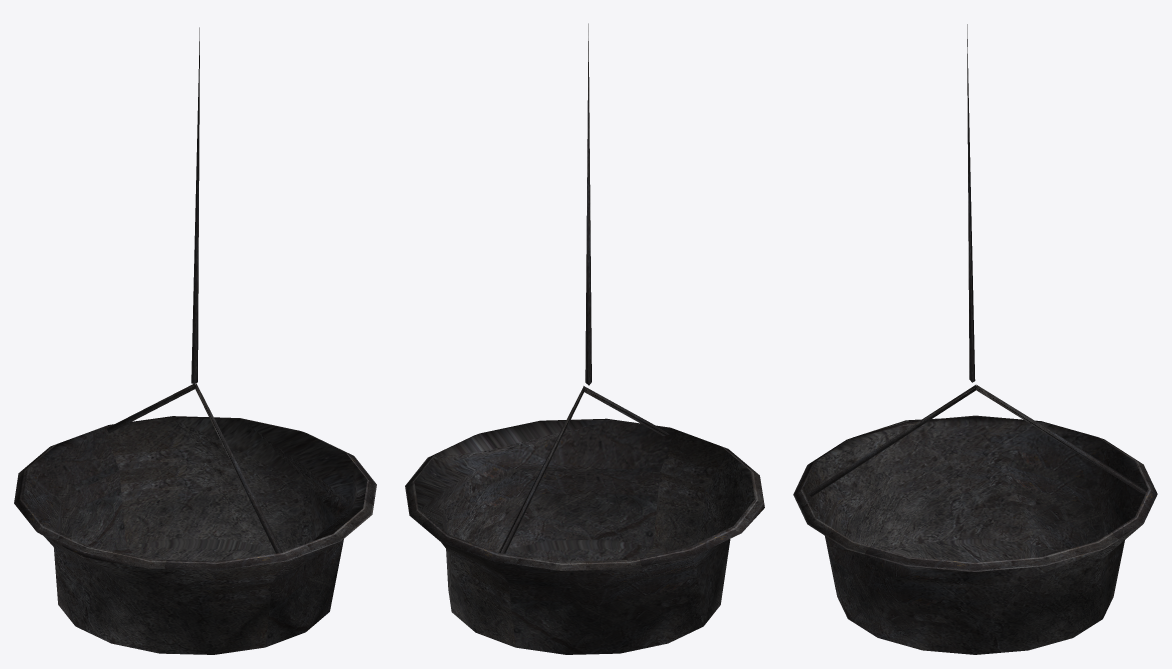
Rendered from tavern_cooker_LOD2.obj.
3 views of the same model, side by side, from view 1: azimuth 30°, elevation 25°; view 2: azimuth 150°, elevation 25°; view 3: azimuth 270°, elevation 25° (orthographic).
Parts seen in each view (by area): view 1: Default_Layer; view 2: Default_Layer; view 3: Default_Layer.
Boxes of the visible parts, <box> form: Default_Layer: <box>14,27,376,654</box>; Default_Layer: <box>405,23,764,654</box>; Default_Layer: <box>793,24,1157,654</box>.
Bounding box in the file's own units: 6.18 × 11.29 × 6.18.
1 material, 1 textured.
